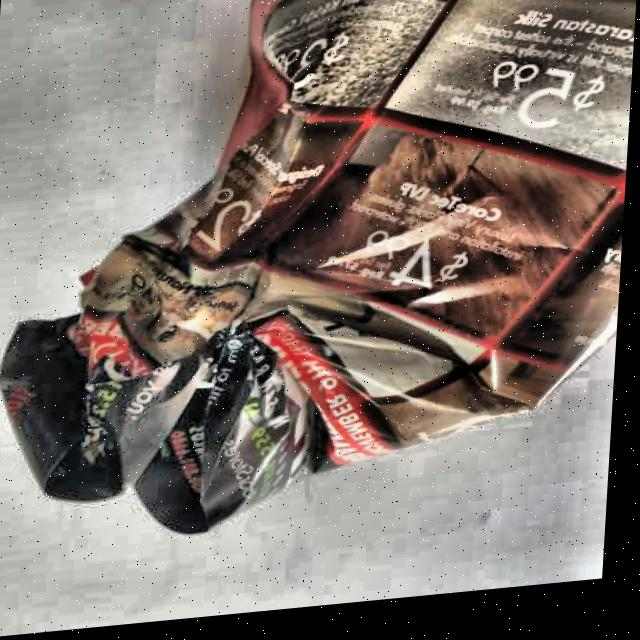paper: (0, 0, 640, 555)
